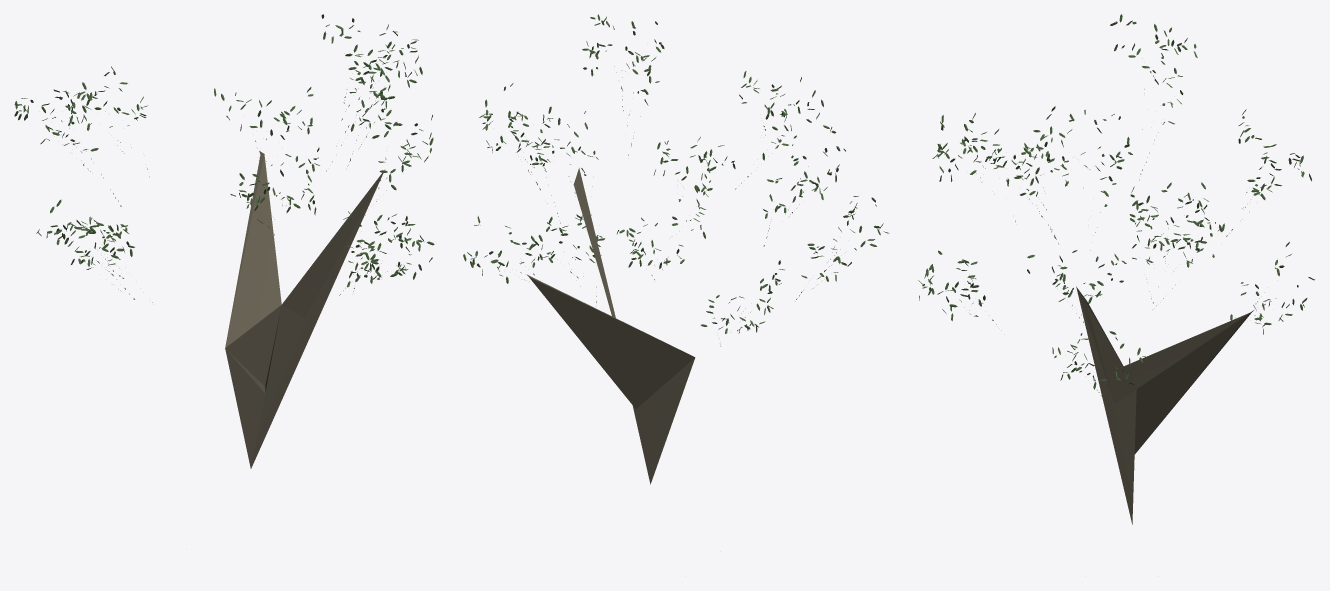
File: CheneVert_1_Niveau1.fbx
3 renders of one model, left to right at view 1: azimuth 30°, elevation 25°; view 2: azimuth 150°, elevation 25°; view 3: azimuth 270°, elevation 25°, orthographic. The views are drawn at different scales.
Visible parts, largest first — view 1: CheneVert_1_Niveau1; view 2: CheneVert_1_Niveau1; view 3: CheneVert_1_Niveau1.
Part boxes in pixels (box(x1,y1,x2,y2)): CheneVert_1_Niveau1: box(14, 14, 434, 468); CheneVert_1_Niveau1: box(463, 14, 889, 484); CheneVert_1_Niveau1: box(918, 14, 1314, 524).
Bounding box in the file's own units: 465 × 578 × 410.
